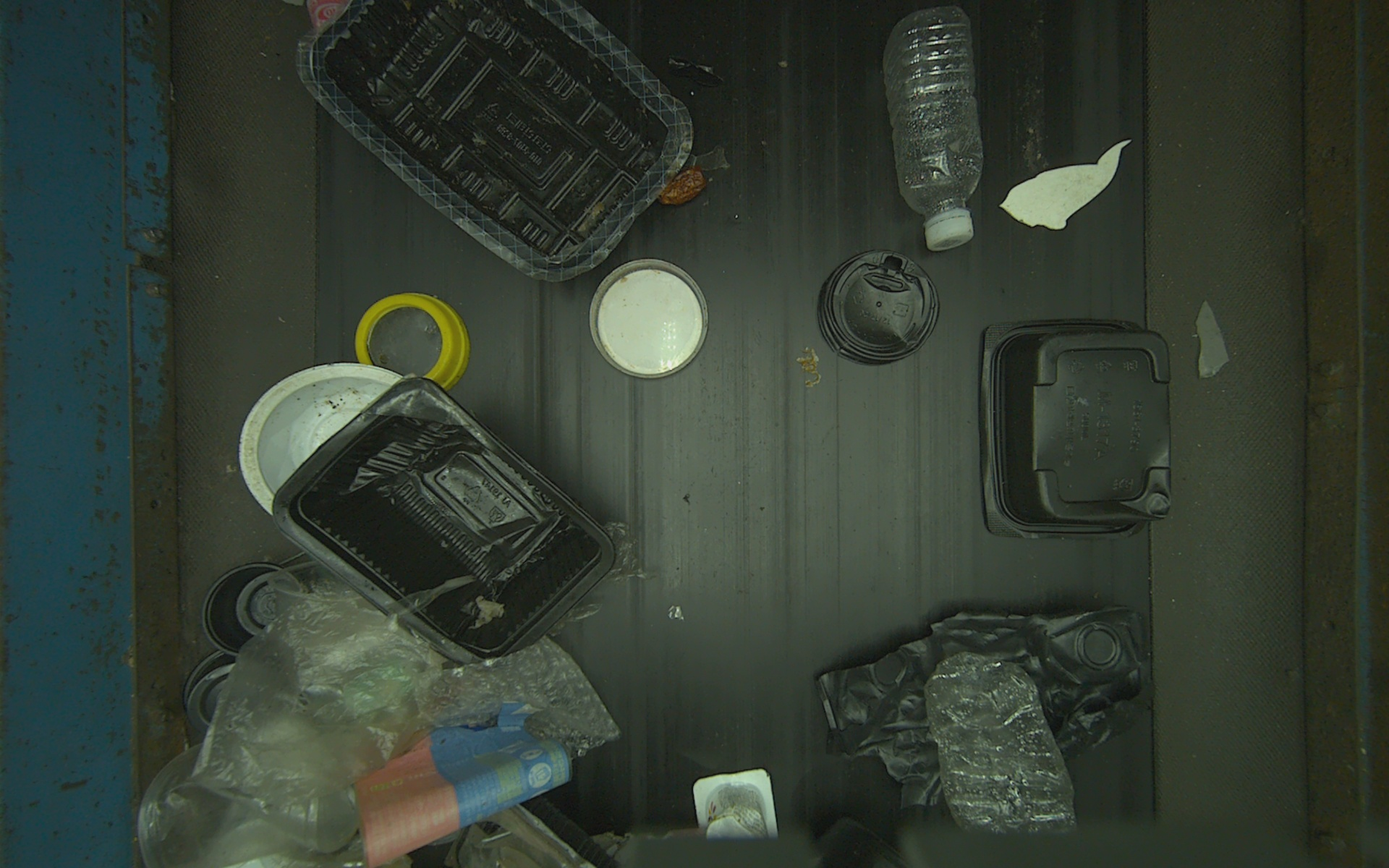PET: (925, 650, 1078, 834), (883, 5, 985, 252)
PET-C: (138, 741, 360, 868)
PP-B: (303, 0, 686, 271), (273, 374, 616, 665), (812, 605, 1156, 807), (977, 319, 1173, 540)
PS-W: (692, 769, 778, 838)
